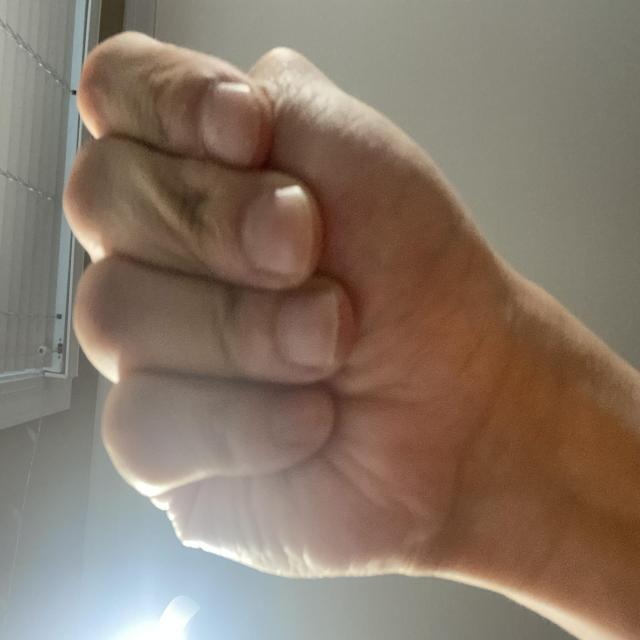M: (38, 76, 460, 640)
